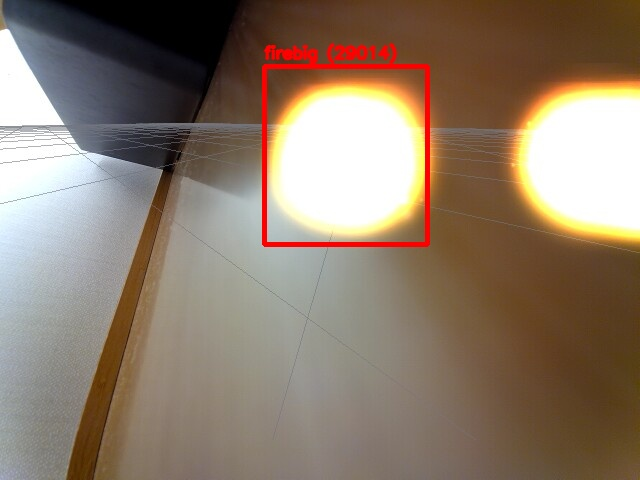firebig: (264, 66, 427, 244)
